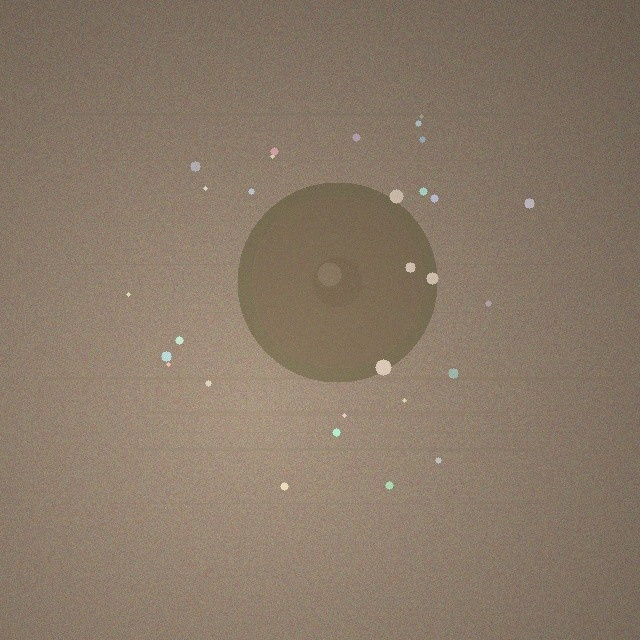overburn: (237, 182, 437, 382)
